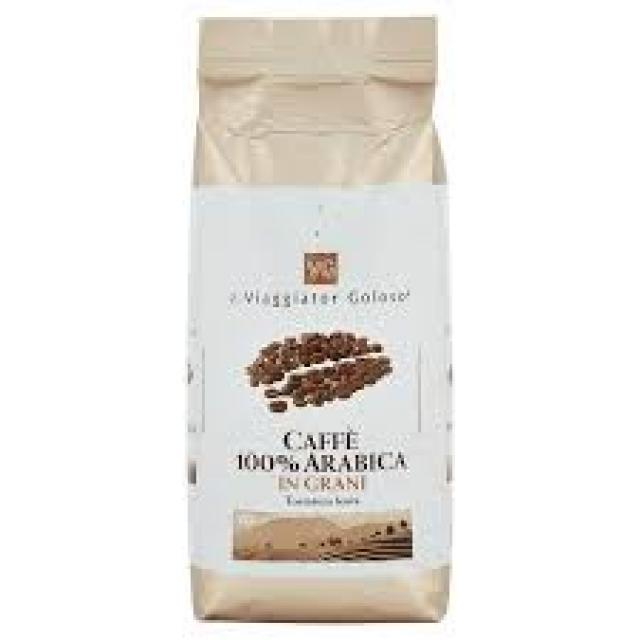Coffee: (182, 14, 455, 626)
